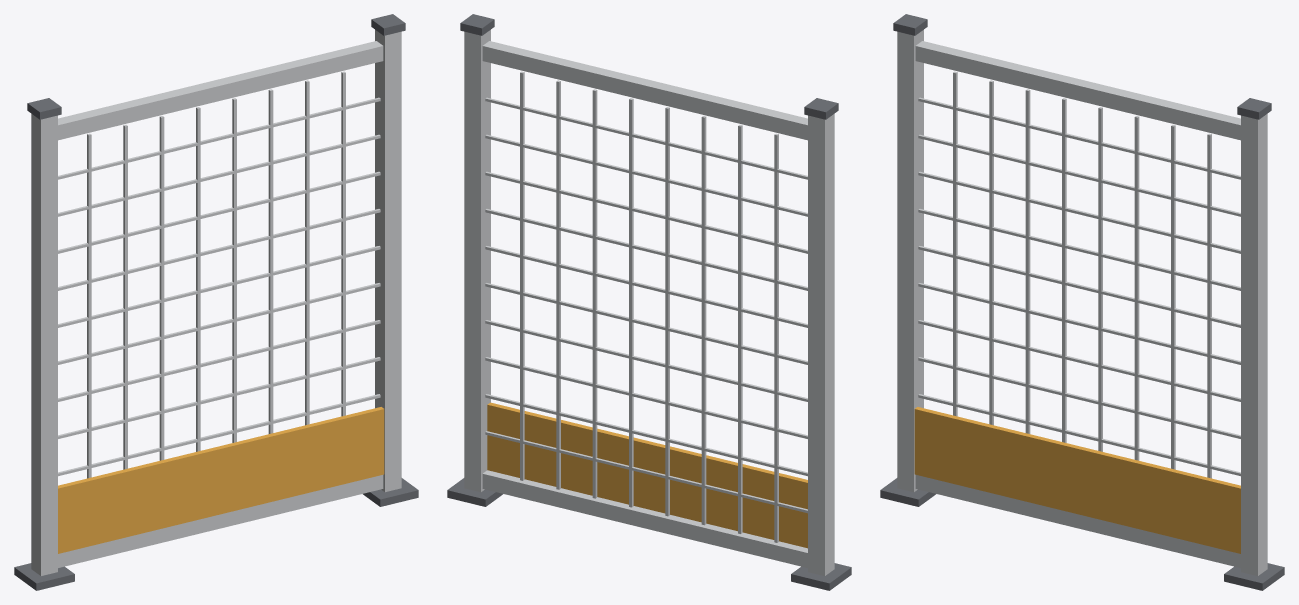
The model's file is boarding-kennels-and-cattery-boarding-kennels-and-catt-84a1f123__35534.glb.
3 renders of one model, left to right at view 1: azimuth 30°, elevation 25°; view 2: azimuth 150°, elevation 25°; view 3: azimuth 330°, elevation 25°, orthographic.
Parts seen in each view (by area): view 1: boarding-kennels-and-cattery-outdoor-run-panel; view 2: boarding-kennels-and-cattery-outdoor-run-panel; view 3: boarding-kennels-and-cattery-outdoor-run-panel.
Part boxes in pixels (bbox=[...]): boarding-kennels-and-cattery-outdoor-run-panel: bbox=[14, 14, 418, 590]; boarding-kennels-and-cattery-outdoor-run-panel: bbox=[447, 14, 851, 590]; boarding-kennels-and-cattery-outdoor-run-panel: bbox=[880, 14, 1284, 590].
Size of the model in its own units: 1.59 by 1.88 by 0.16.
